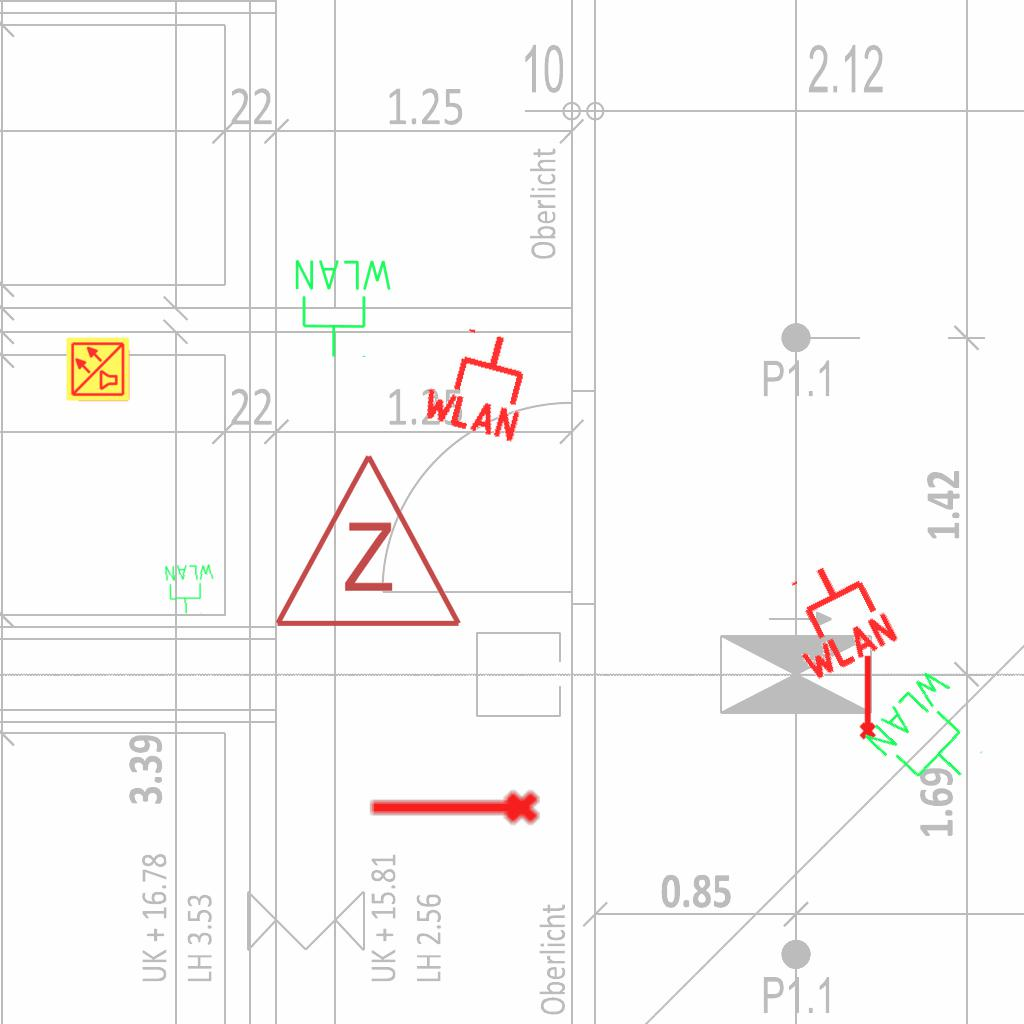ASR_Ansaugoeffnung: (366, 787, 542, 833), (855, 653, 878, 741)
OKW_Multisensormelder_(Kombination_optischer_Rauch-Kahlenmonoxid_Waerme-Melder): (65, 336, 131, 402)
WLAN: (858, 660, 1006, 809), (763, 545, 904, 687), (415, 316, 544, 446), (291, 256, 396, 360), (163, 562, 217, 616)
Zimmersignalleuchte: (268, 441, 464, 641)
